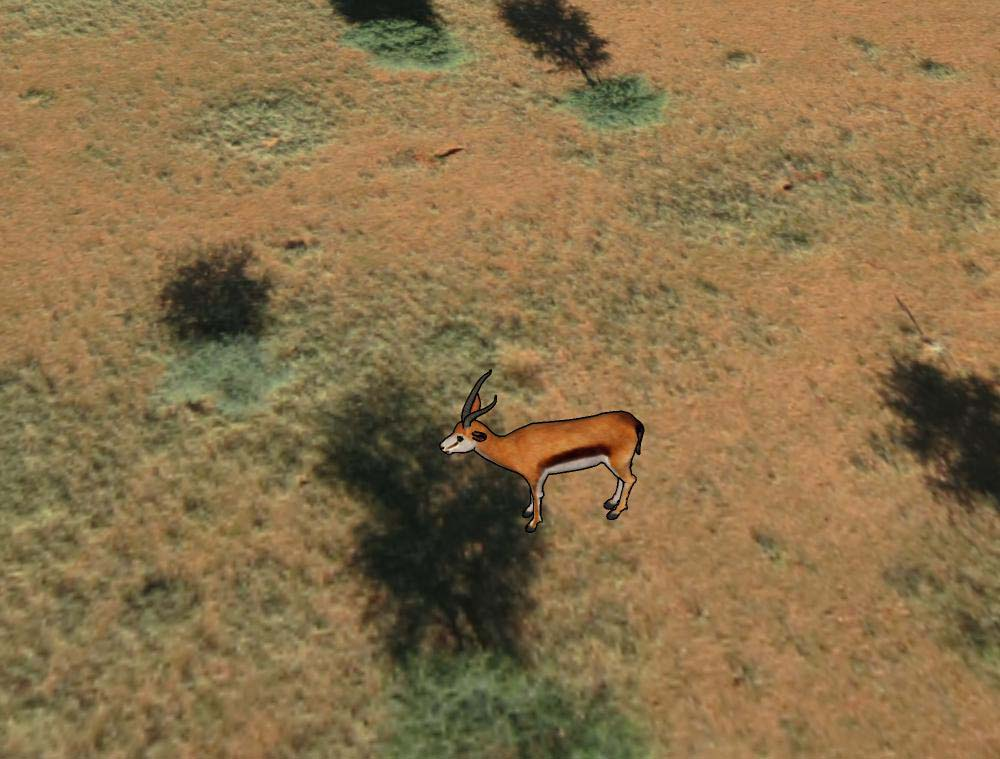springbok: (439, 364, 647, 536)
